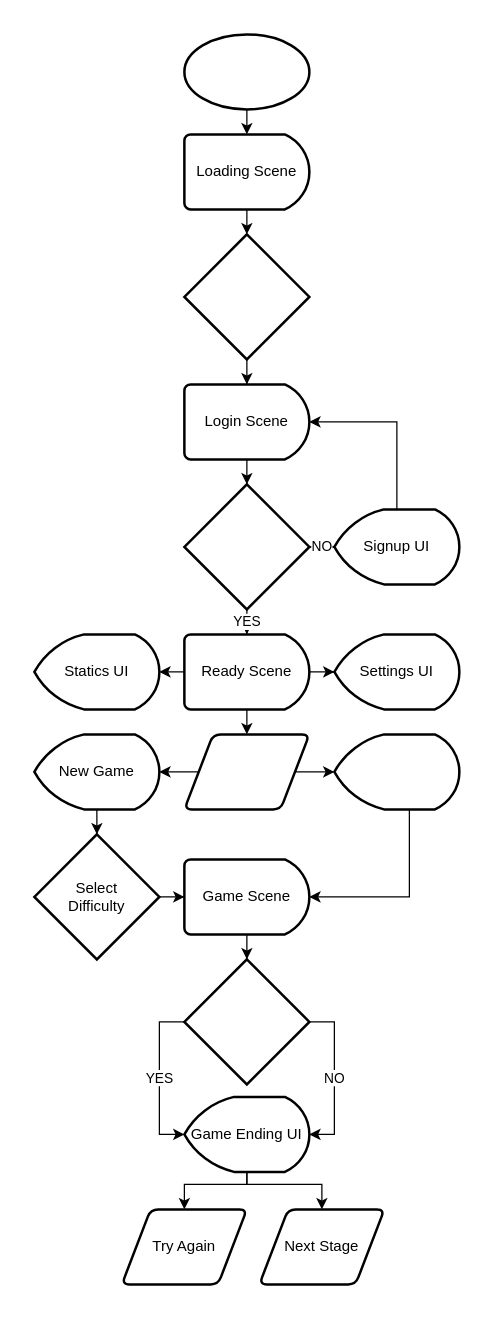
This 493x1318 diagram has some shape labels left out. Each missing label, with the centre of its shape:
"Continue" belongs at (x=396, y=771).
"Game Start" belongs at (x=246, y=771).
"Have ID?" belongs at (x=246, y=546).
"Is Clear?" belongs at (x=246, y=1021).
"Is Logined?" belongs at (x=246, y=296).
"Start" belongs at (x=246, y=71).
